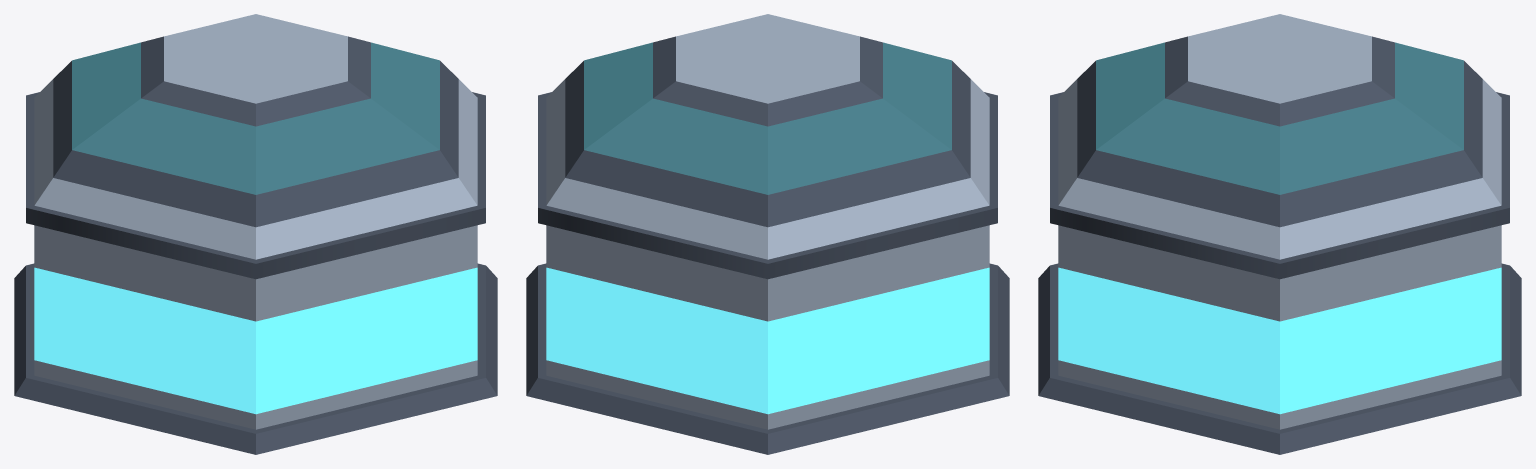
The model's file is hangar_roundB.glb.
The picture shows the model from 3 angles, left to right: view 1: azimuth 30°, elevation 25°; view 2: azimuth 150°, elevation 25°; view 3: azimuth 270°, elevation 25°; orthographic projection.
Parts seen in each view (by area): view 1: hangar_roundB; view 2: hangar_roundB; view 3: hangar_roundB.
Boxes of the visible parts, x1,y1,x2,y2 form: hangar_roundB: (14,14,497,454); hangar_roundB: (526,14,1009,454); hangar_roundB: (1038,14,1521,454).
Bounding box in the file's own units: 3.27 × 1.8 × 2.83.
